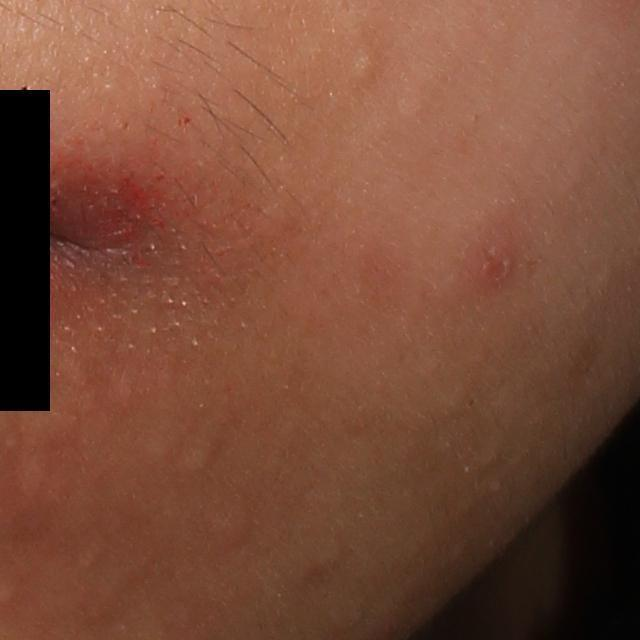comedo: (208, 503, 261, 554), (345, 48, 383, 86), (183, 441, 221, 472)
papule: (457, 219, 533, 287)
